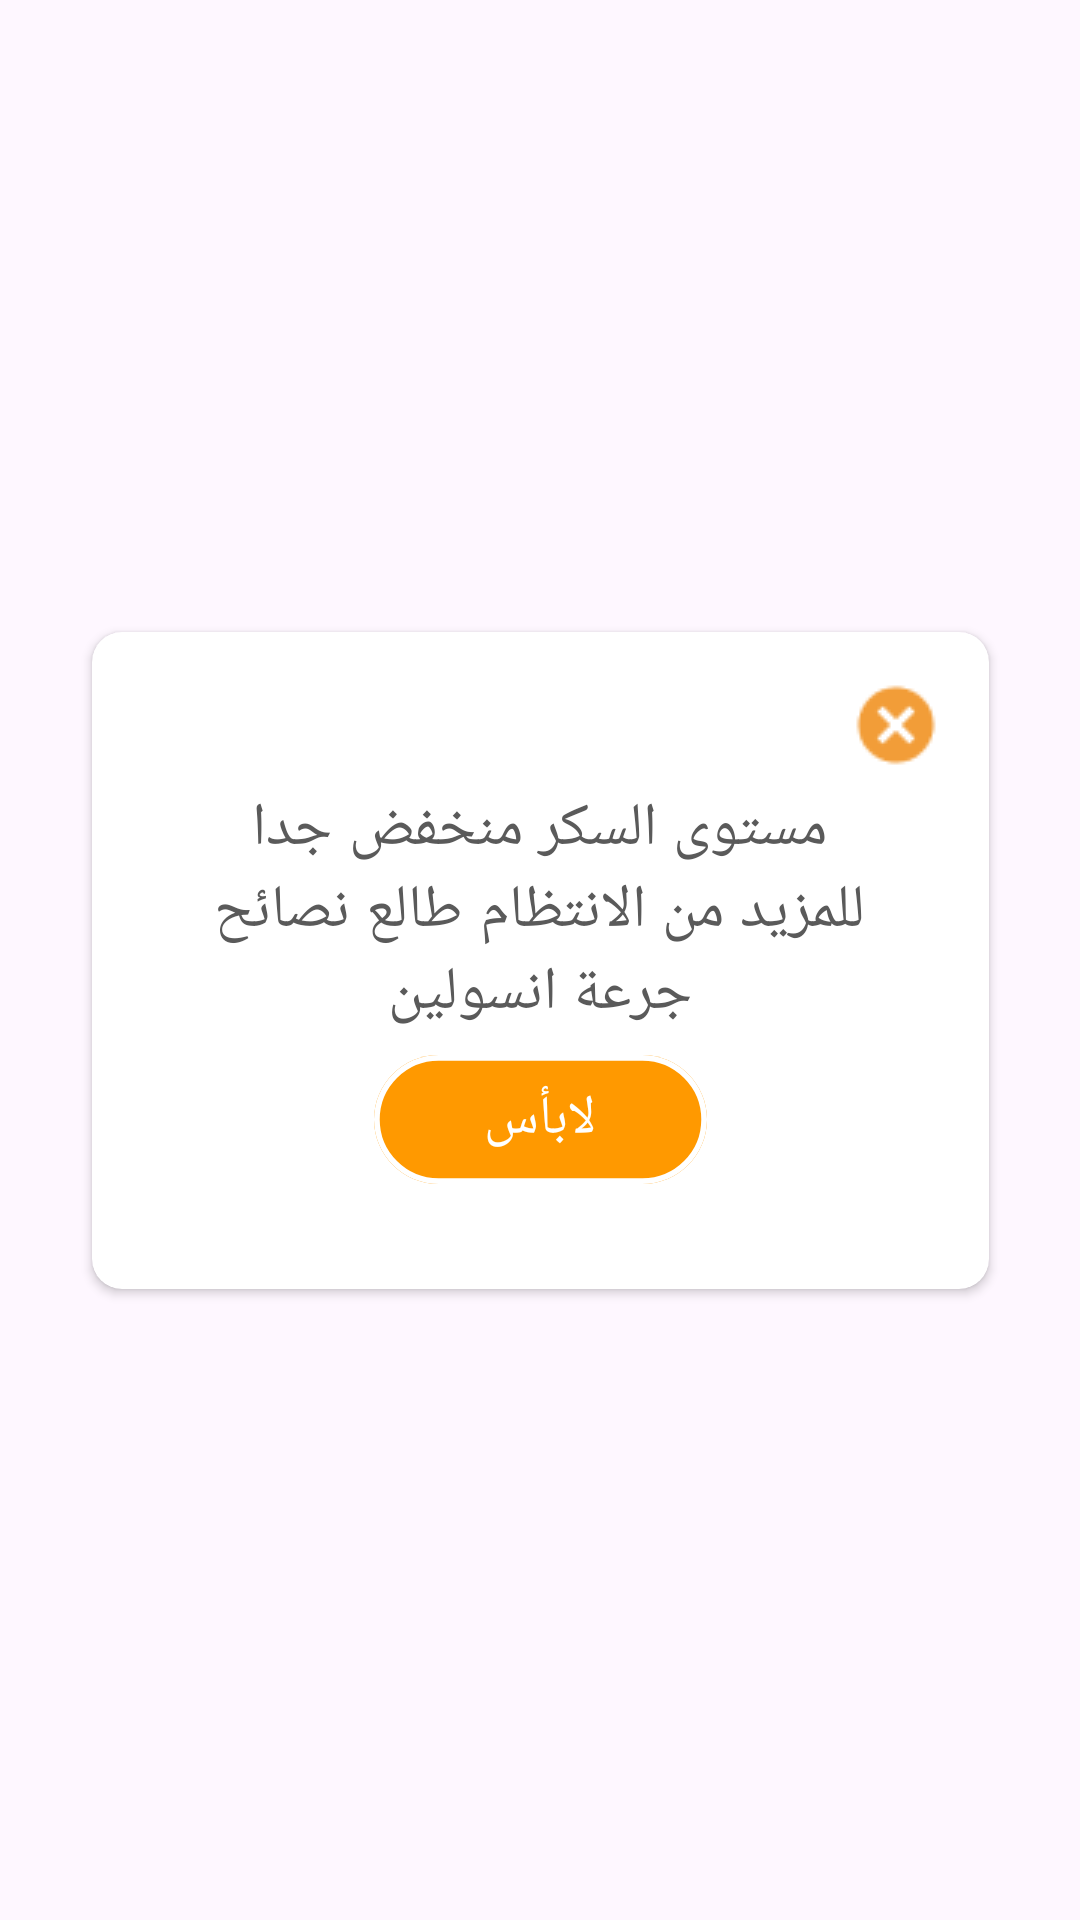

Icon bounding boxes for this 1080x1920 phone screenshot, format {"x1": x1, "y1": y1, "x2": x2, "y2": y2}:
cancel: {"x1": 856, "y1": 685, "x2": 936, "y2": 765}
